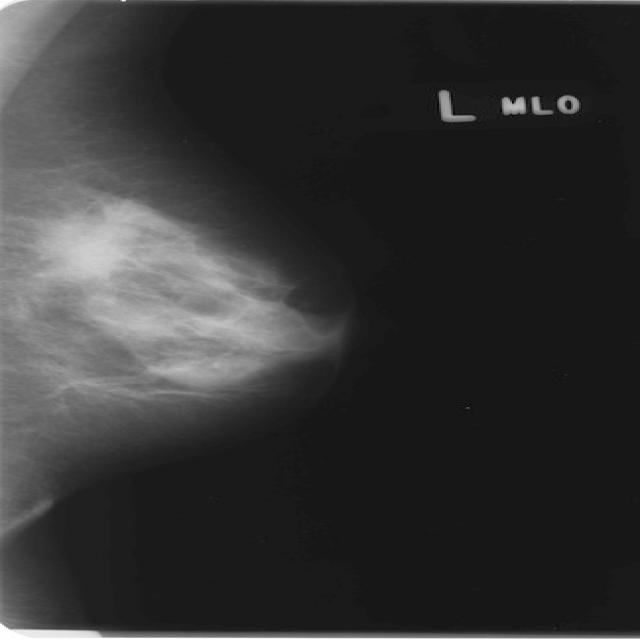tumour: (35, 203, 144, 279)
